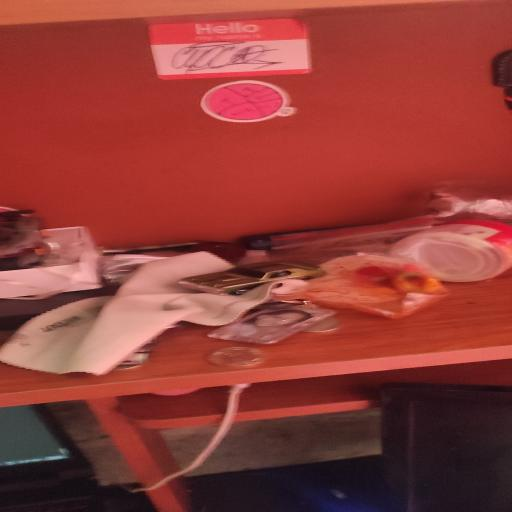Carrito: (179, 262, 325, 296)
